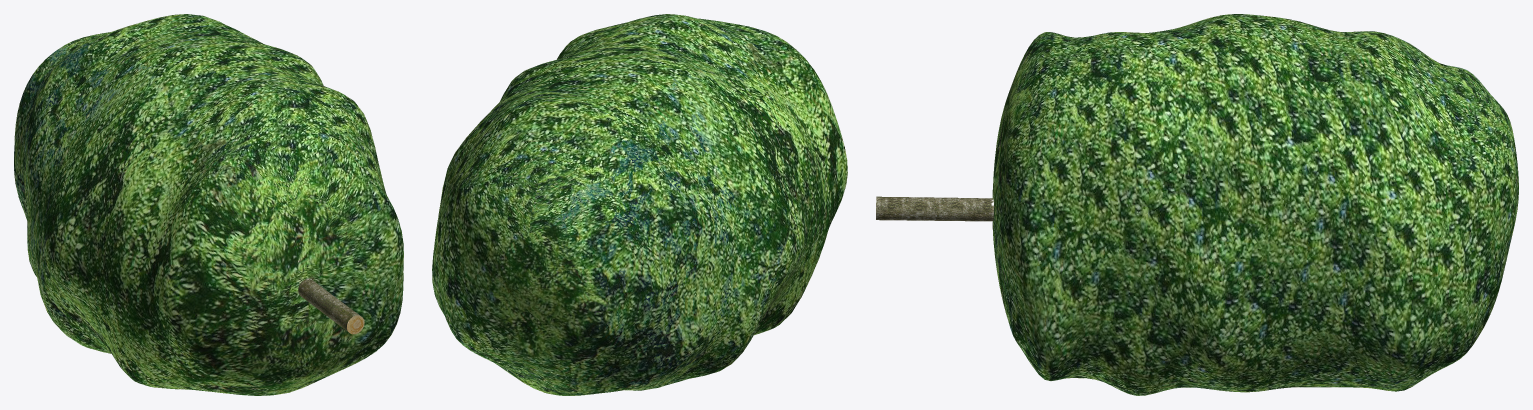
File: arbol3.obj
3 views of the same model, side by side, from view 1: azimuth 30°, elevation 25°; view 2: azimuth 150°, elevation 25°; view 3: azimuth 270°, elevation 25° (orthographic). The views are drawn at different scales.
Parts seen in each view (by area): view 1: 10459_White_Ash_Tree_v1_SG; view 2: 10459_White_Ash_Tree_v1_SG; view 3: 10459_White_Ash_Tree_v1_SG.
Boxes of the visible parts, x1,y1,x2,y2 form: 10459_White_Ash_Tree_v1_SG: (14,14,403,395); 10459_White_Ash_Tree_v1_SG: (432,14,847,395); 10459_White_Ash_Tree_v1_SG: (876,14,1518,395).
Bounding box in the file's own units: 40.4 × 38.67 × 65.01.
1 material, 1 textured.
